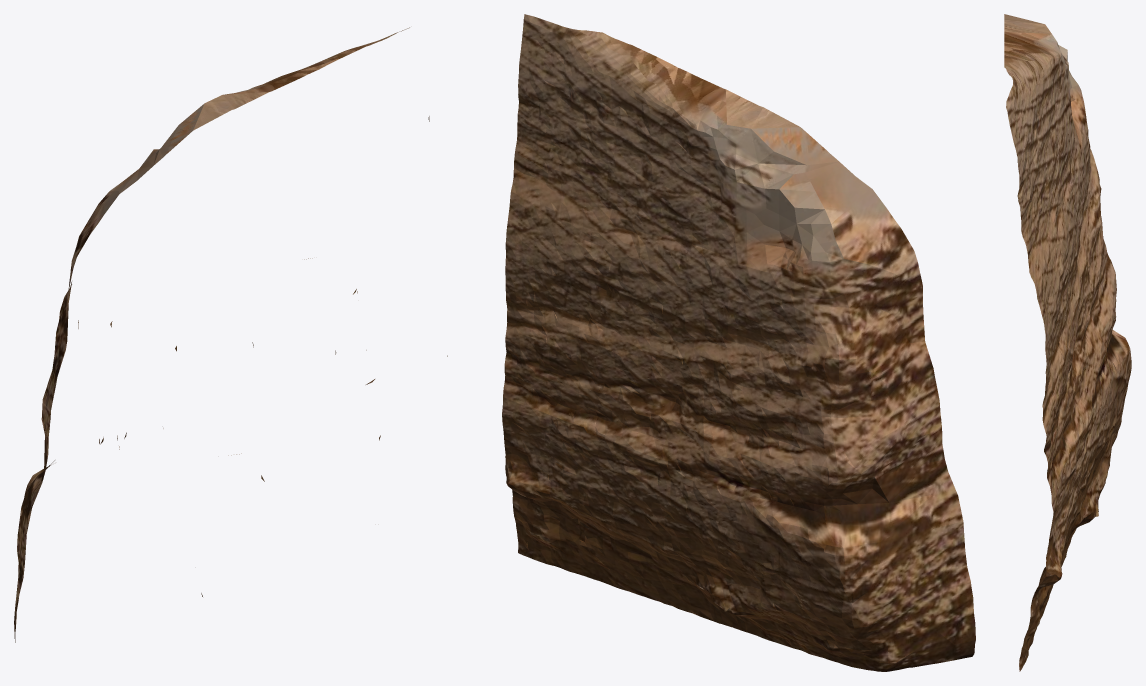
3 views of the same model, side by side, from view 1: azimuth 30°, elevation 25°; view 2: azimuth 150°, elevation 25°; view 3: azimuth 270°, elevation 25° (orthographic). The views are drawn at different scales.
Size of the model in its own units: 0.9222 by 1.04 by 0.2132.
2 materials, 2 textured.
